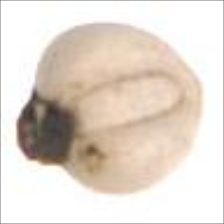L5: (71, 66, 188, 135), (14, 83, 77, 170), (183, 60, 205, 142)
L6: (16, 20, 204, 197)
